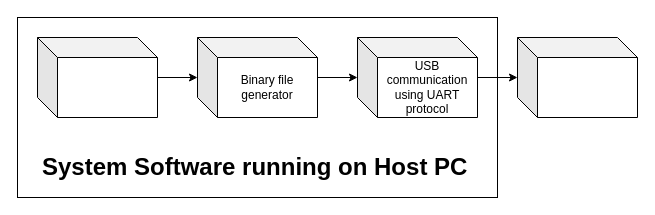
The diagram is 655 pixels wide and 215 high, and some of its shapes have lost their labels. The box of each missing label's shape, as (x1, y1, x2, y2) in pixels:
FPGA: (516, 36, 638, 118)
MATLAB input waveforms: (36, 36, 158, 118)
